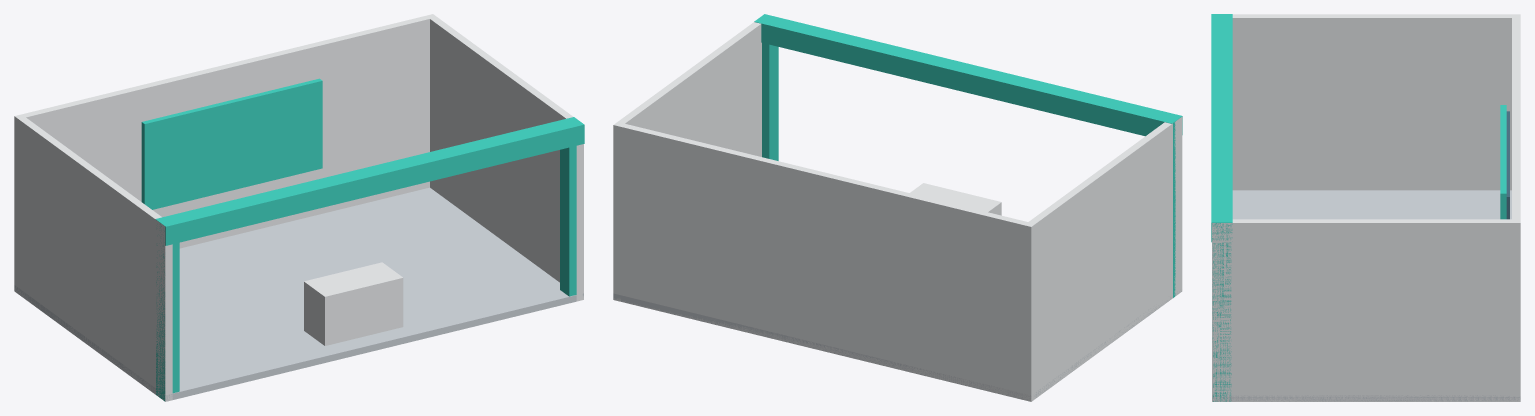
The picture shows the model from 3 angles, left to right: view 1: azimuth 30°, elevation 25°; view 2: azimuth 150°, elevation 25°; view 3: azimuth 270°, elevation 25°; orthographic projection. The views are drawn at different scales.
Parts seen in each view (by area): view 1: Exhibition Booth Concept; view 2: Exhibition Booth Concept; view 3: Exhibition Booth Concept.
Boxes of the visible parts, <box> form: Exhibition Booth Concept: <box>14,14,584,401</box>; Exhibition Booth Concept: <box>613,14,1182,401</box>; Exhibition Booth Concept: <box>1211,14,1520,401</box>.
Bounding box in the file's own units: 8 × 3.2 × 5.02.
